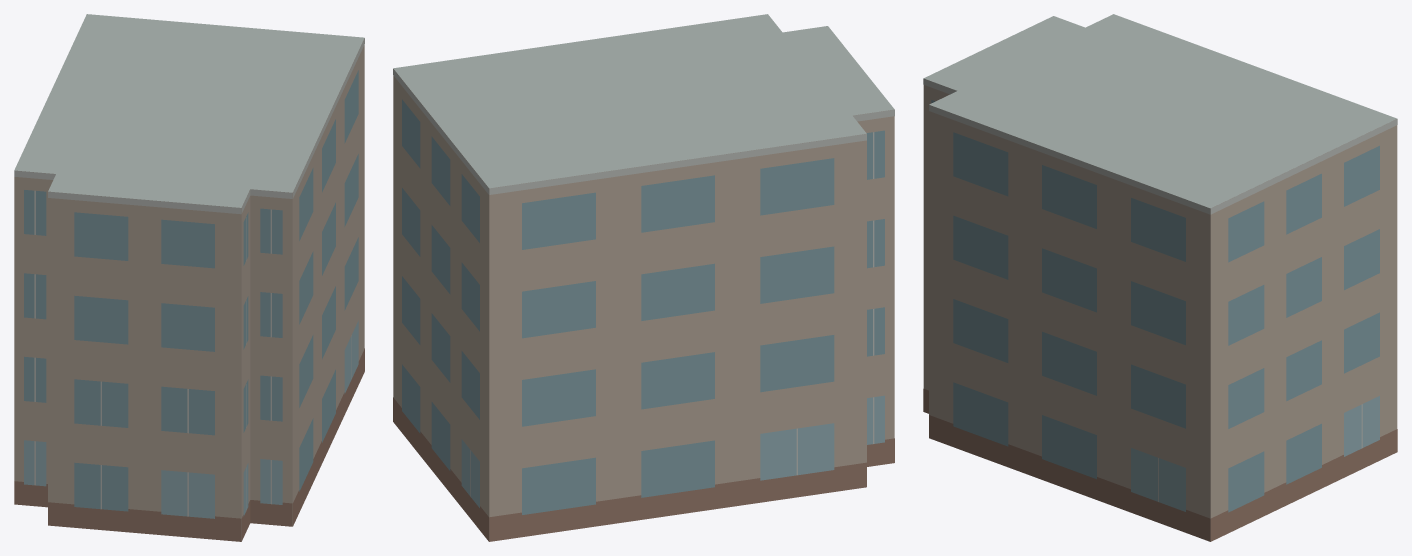
The model's file is survey-upis-32823348.glb.
The picture shows the model from 3 angles, left to right: view 1: azimuth 30°, elevation 25°; view 2: azimuth 150°, elevation 25°; view 3: azimuth 270°, elevation 25°; orthographic projection. The views are drawn at different scales.
Visible parts, largest first — view 1: survey-upis-32823348.tmp; view 2: survey-upis-32823348.tmp; view 3: survey-upis-32823348.tmp.
Boxes of the visible parts, x1=… form: survey-upis-32823348.tmp: x1=14, y1=14, x2=364, y2=541; survey-upis-32823348.tmp: x1=393, y1=14, x2=894, y2=541; survey-upis-32823348.tmp: x1=923, y1=14, x2=1397, y2=541.
Size of the model in its own units: 16.15 by 12.91 by 16.64.
